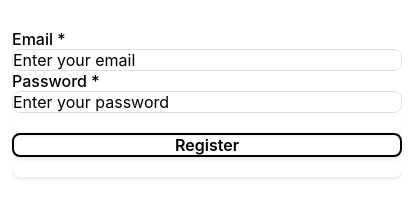
Scenario: LoginScreen › Form Validation › should show error for invalid email format
This screenshot has width=414, height=213.
Type "invalid-email" into the field with placeholder "Enter your email" at (207, 60), box top-left (12, 49), bottom-right (402, 71)
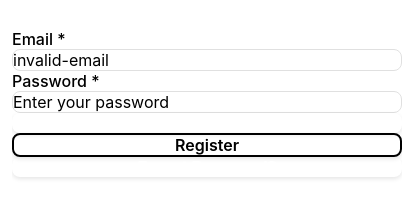
Click the text "Login" at (207, 123), box top-left (186, 113), bottom-right (228, 133)
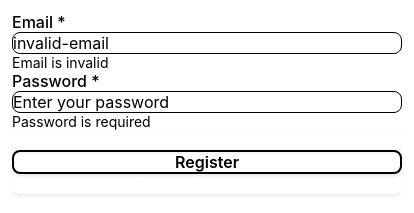
Check: the text "Email is invalid" is shown, box top-left (12, 54), bottom-right (108, 71)
